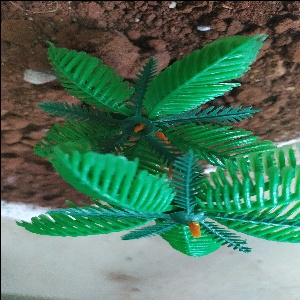plant: (26, 36, 300, 260)
